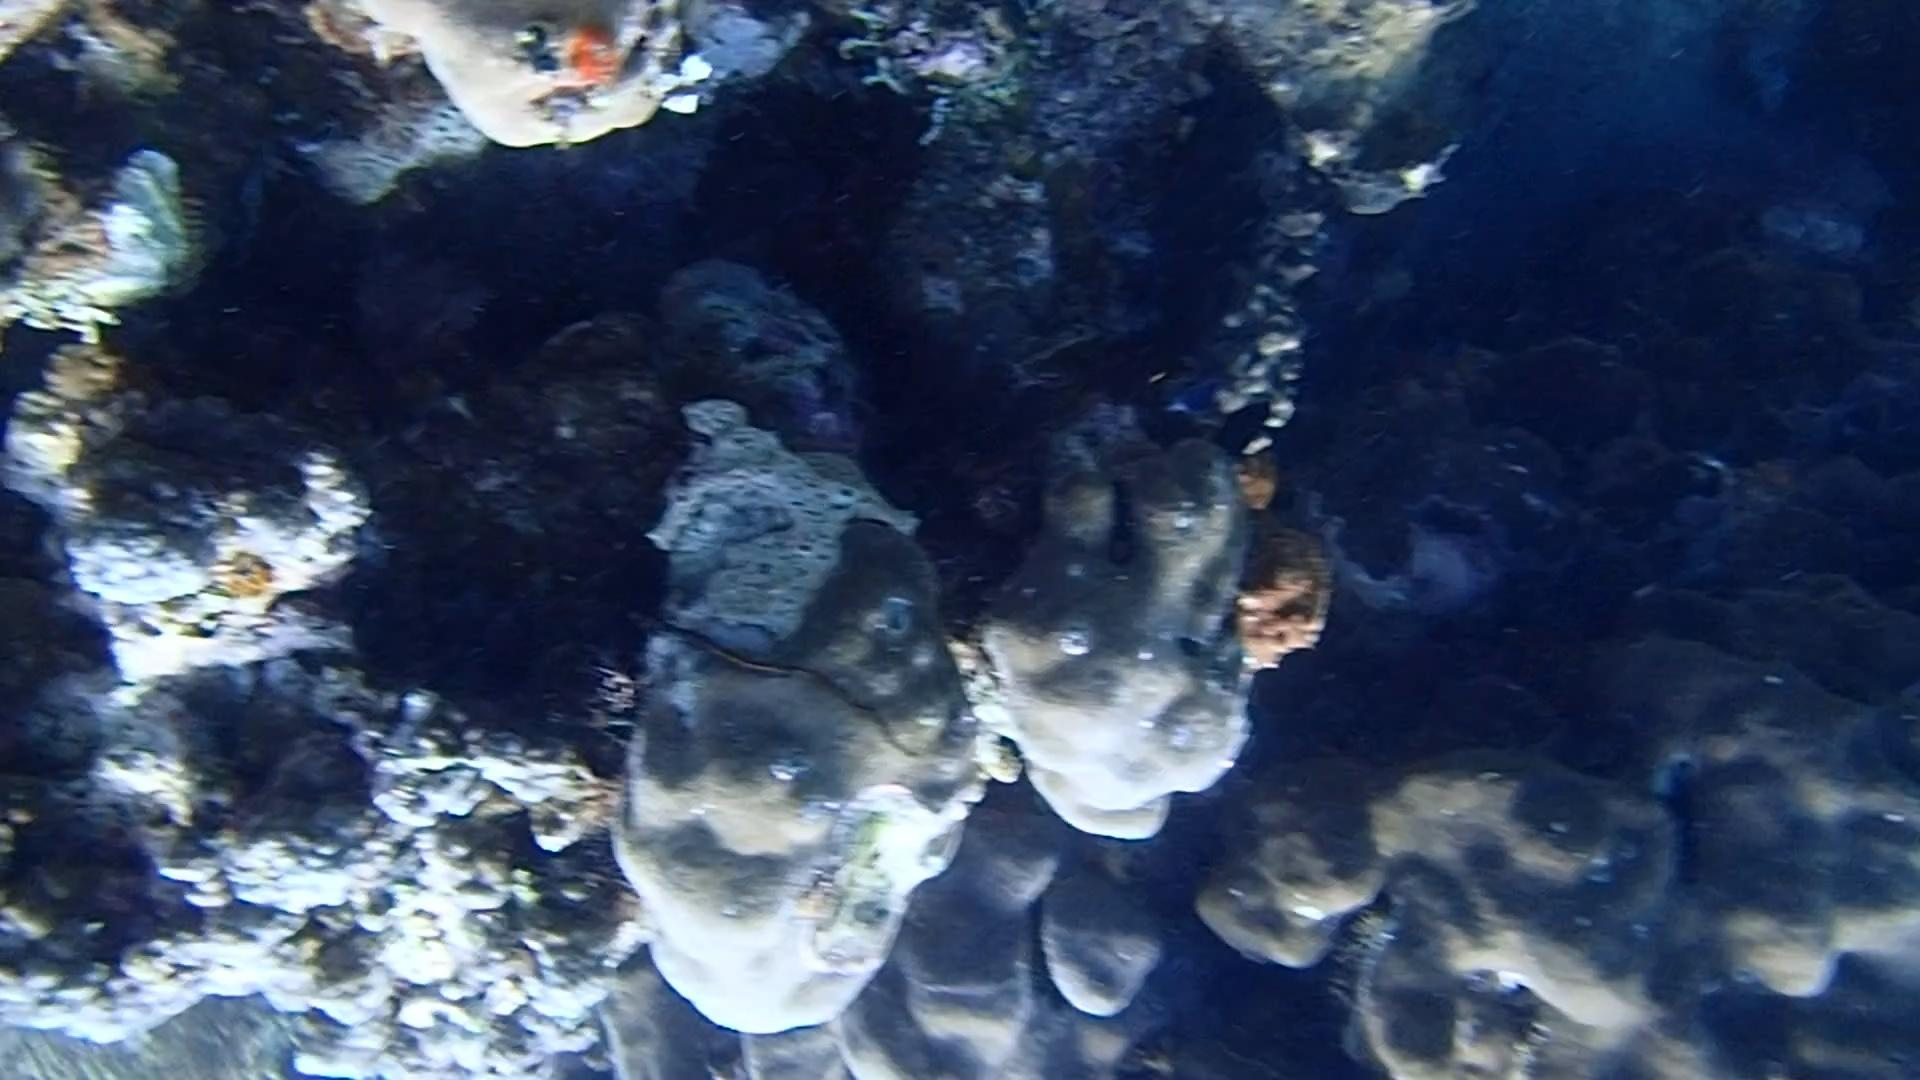Dark Fish: (1203, 389, 1284, 463)
